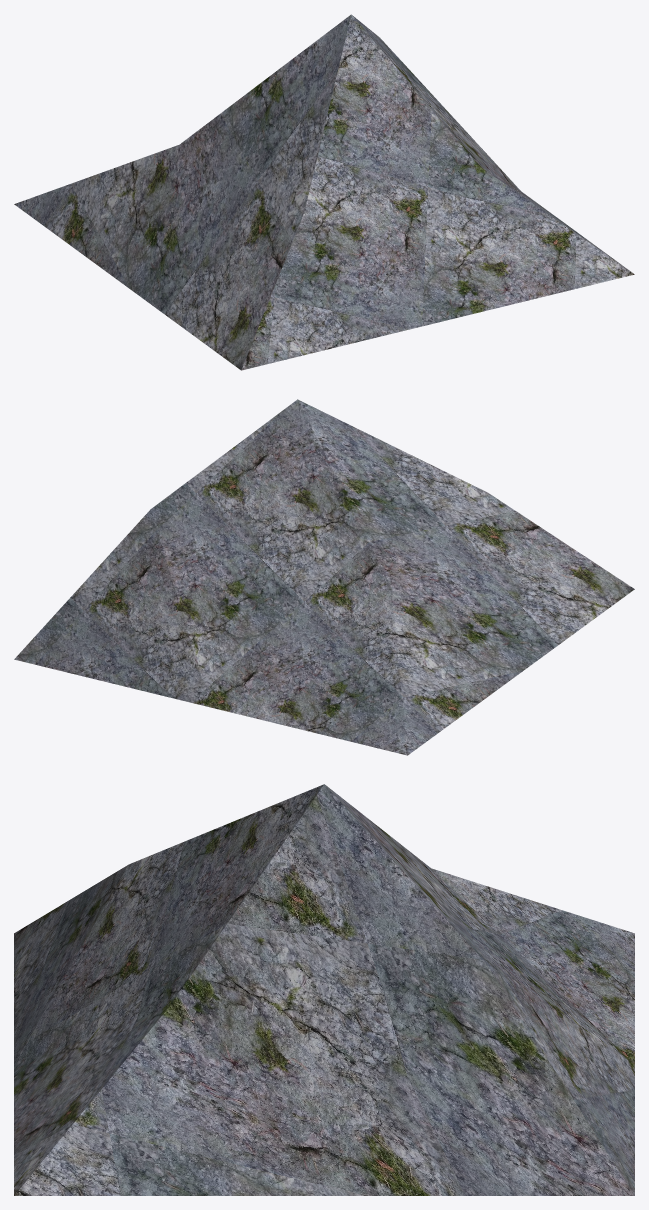
File: mountaintop.glb
3 views of the same model, one above another, from view 1: azimuth 30°, elevation 25°; view 2: azimuth 150°, elevation 25°; view 3: azimuth 270°, elevation 25° (orthographic). The views are drawn at different scales.
Parts seen in each view (by area): view 1: Cube; view 2: Cube; view 3: Cube.
Boxes of the visible parts, x1,y1,x2,y2 form: Cube: (14,14,634,370); Cube: (14,399,634,755); Cube: (14,784,634,1195).
Bounding box in the file's own units: 9.93 × 5.27 × 9.93.
1 material, 1 textured.
